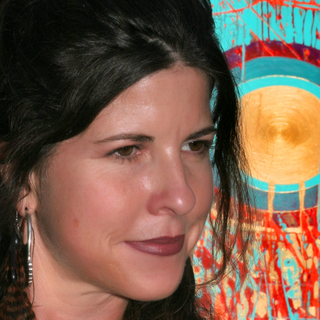eye: (102, 136, 144, 164), (174, 135, 214, 159)
